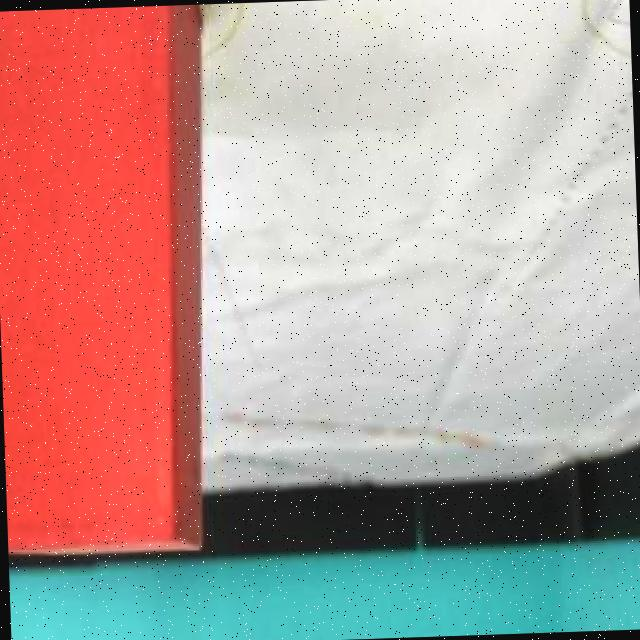redbox: (0, 4, 223, 563)
